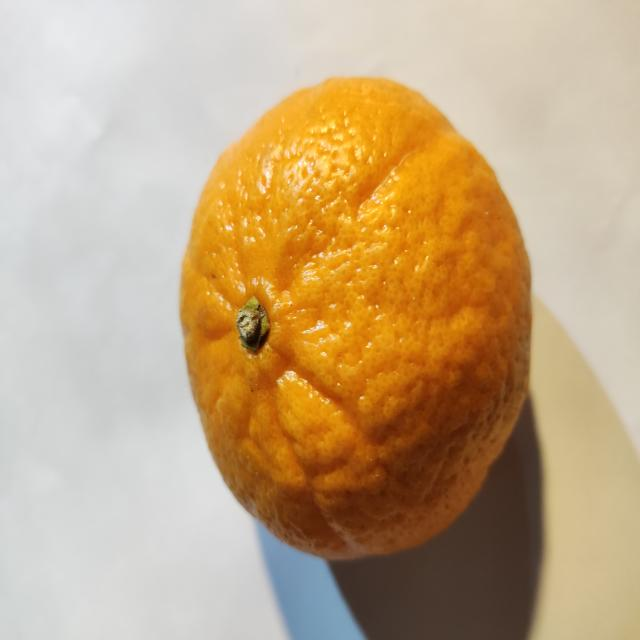orange: (181, 79, 530, 558)
